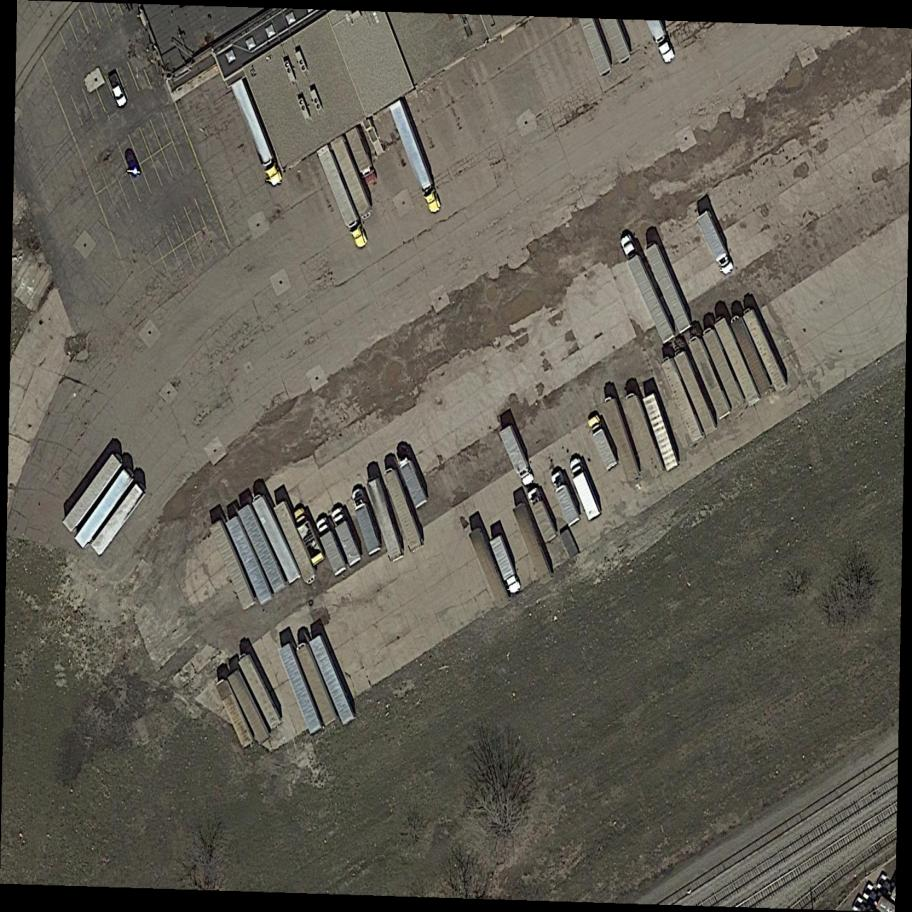large-vehicle: (617, 234, 676, 344), (388, 100, 444, 214), (230, 80, 286, 189), (315, 145, 370, 249), (694, 212, 739, 277), (496, 423, 536, 490), (568, 457, 604, 523), (488, 534, 526, 595), (349, 489, 383, 557), (290, 505, 326, 567), (345, 128, 380, 189), (547, 470, 583, 529), (313, 516, 348, 576), (330, 508, 363, 567), (396, 452, 429, 510), (586, 416, 620, 472), (524, 489, 559, 543)
small-vehicle: (105, 72, 130, 110), (120, 144, 145, 180)
